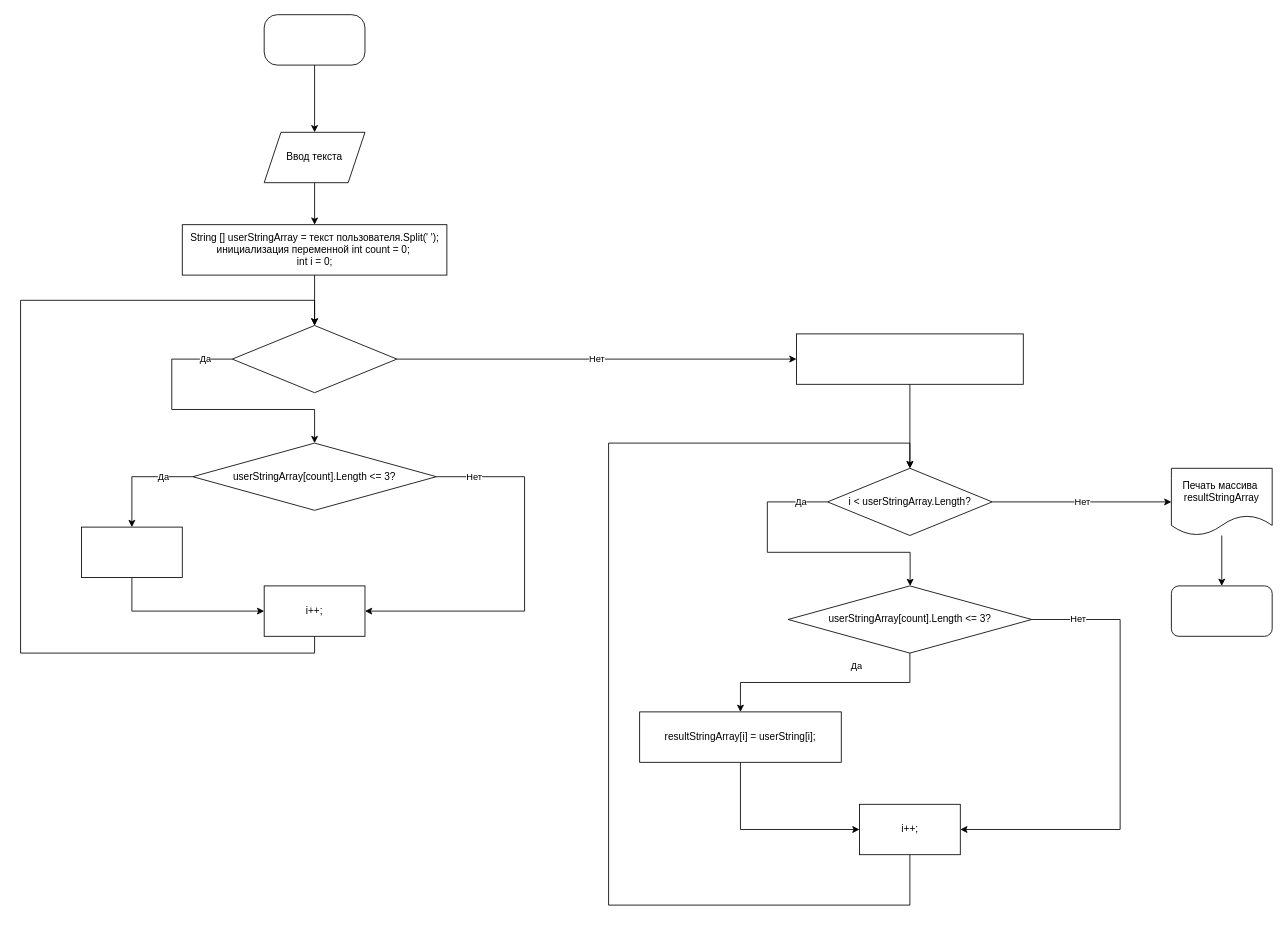
The diagram is 1287 pixels wide and 927 high, and some of its shapes have lost their labels. The shapes that lost their labels are listed below. From the top down, each one's centre as x and y in pixels, then its label:
point 314,39: Старт
point 314,359: i<userStringArray.Length?
point 909,358: String [] resultStringArray = new String [count]; int i2 = 0;
point 131,552: count++;
point 1221,610: Конец
